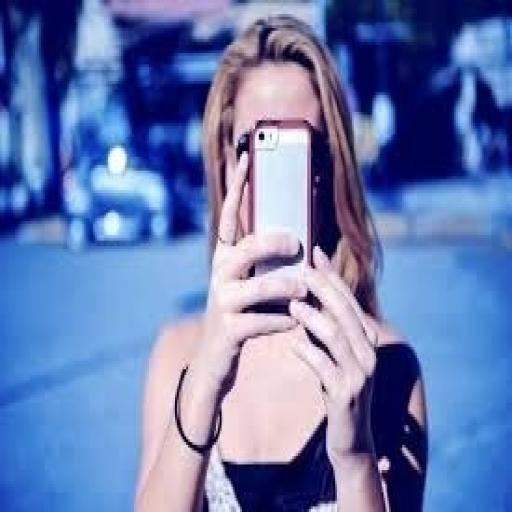texting: (128, 11, 432, 509)
